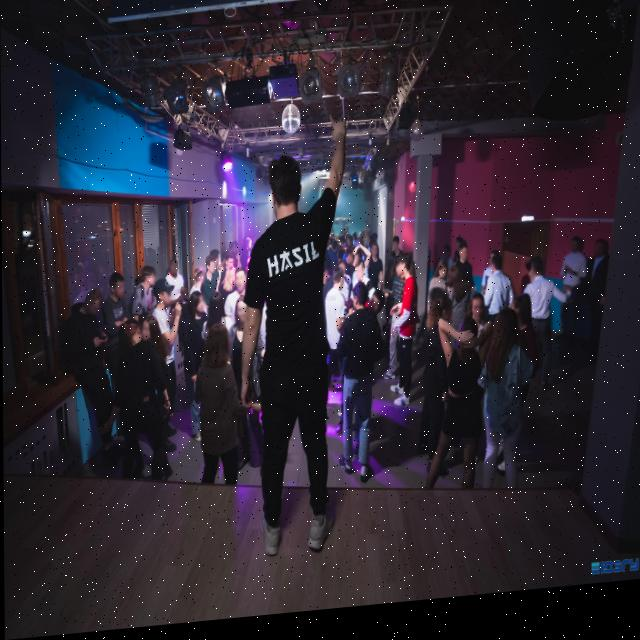Person: (233, 115, 358, 569), (421, 324, 489, 503), (68, 285, 119, 497), (186, 323, 241, 496), (477, 315, 526, 502), (337, 284, 379, 490), (112, 317, 159, 491), (517, 270, 560, 406), (425, 299, 454, 490), (138, 315, 175, 445), (573, 251, 616, 362), (228, 296, 257, 440), (103, 271, 130, 405), (398, 258, 419, 423), (149, 279, 179, 390), (557, 245, 582, 359), (505, 300, 540, 380), (183, 291, 209, 394), (386, 265, 406, 397), (484, 263, 516, 338), (445, 272, 473, 342), (130, 265, 156, 330), (423, 263, 450, 318), (465, 295, 488, 357), (453, 251, 478, 302), (363, 292, 390, 327), (201, 258, 221, 303), (168, 260, 185, 303), (189, 268, 208, 303), (368, 251, 383, 293), (231, 269, 248, 297), (351, 264, 366, 295), (388, 239, 403, 270), (330, 271, 346, 300), (240, 239, 255, 267), (453, 241, 468, 267), (438, 249, 452, 275), (343, 257, 356, 279), (223, 242, 234, 263), (224, 259, 234, 278), (345, 241, 356, 258), (331, 245, 338, 271), (230, 244, 241, 260), (337, 253, 346, 272)
